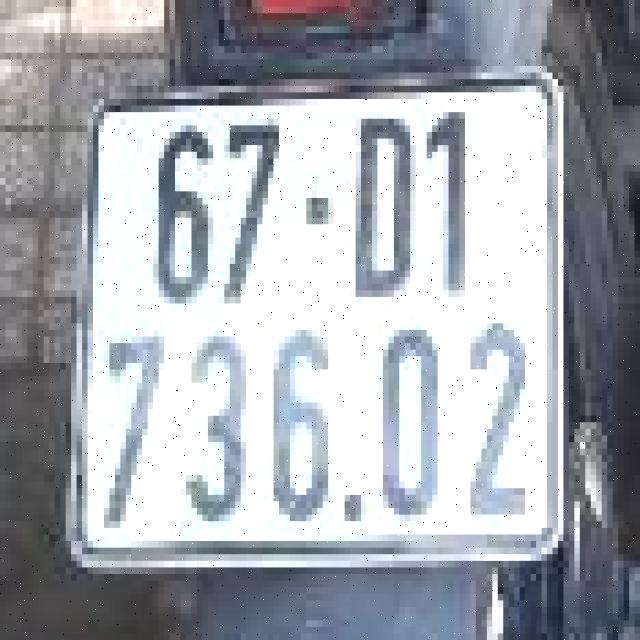0: (364, 317, 446, 521)
1: (422, 116, 482, 300)
2: (454, 317, 547, 521)
3: (178, 326, 249, 524)
6: (263, 317, 339, 534), (148, 115, 218, 320)
7: (96, 323, 172, 528), (216, 105, 287, 304)
D: (339, 105, 421, 304)
